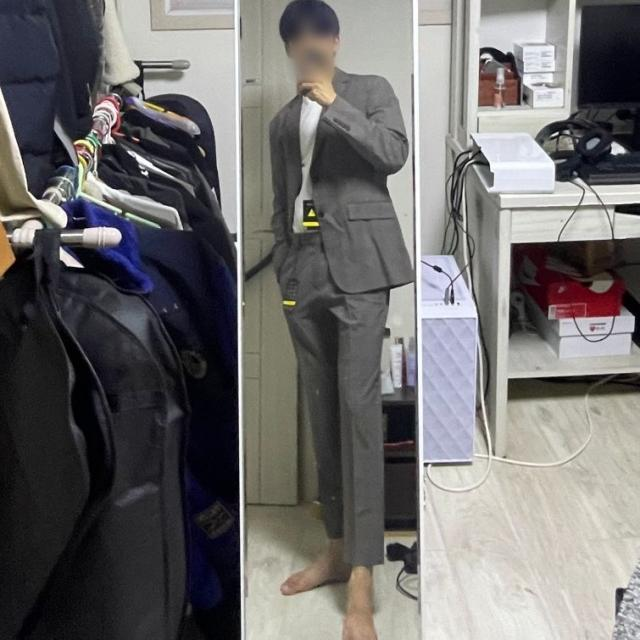blazer: (268, 71, 418, 293)
slacks: (283, 226, 390, 568)
